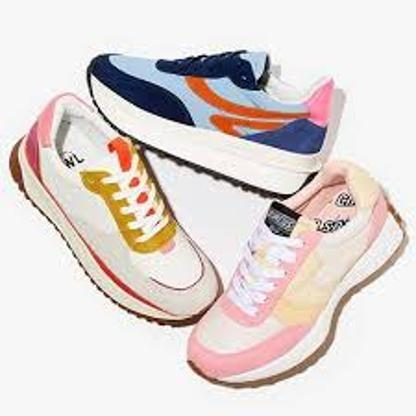not trash: (2, 90, 228, 326), (186, 159, 410, 388), (77, 44, 340, 202)
